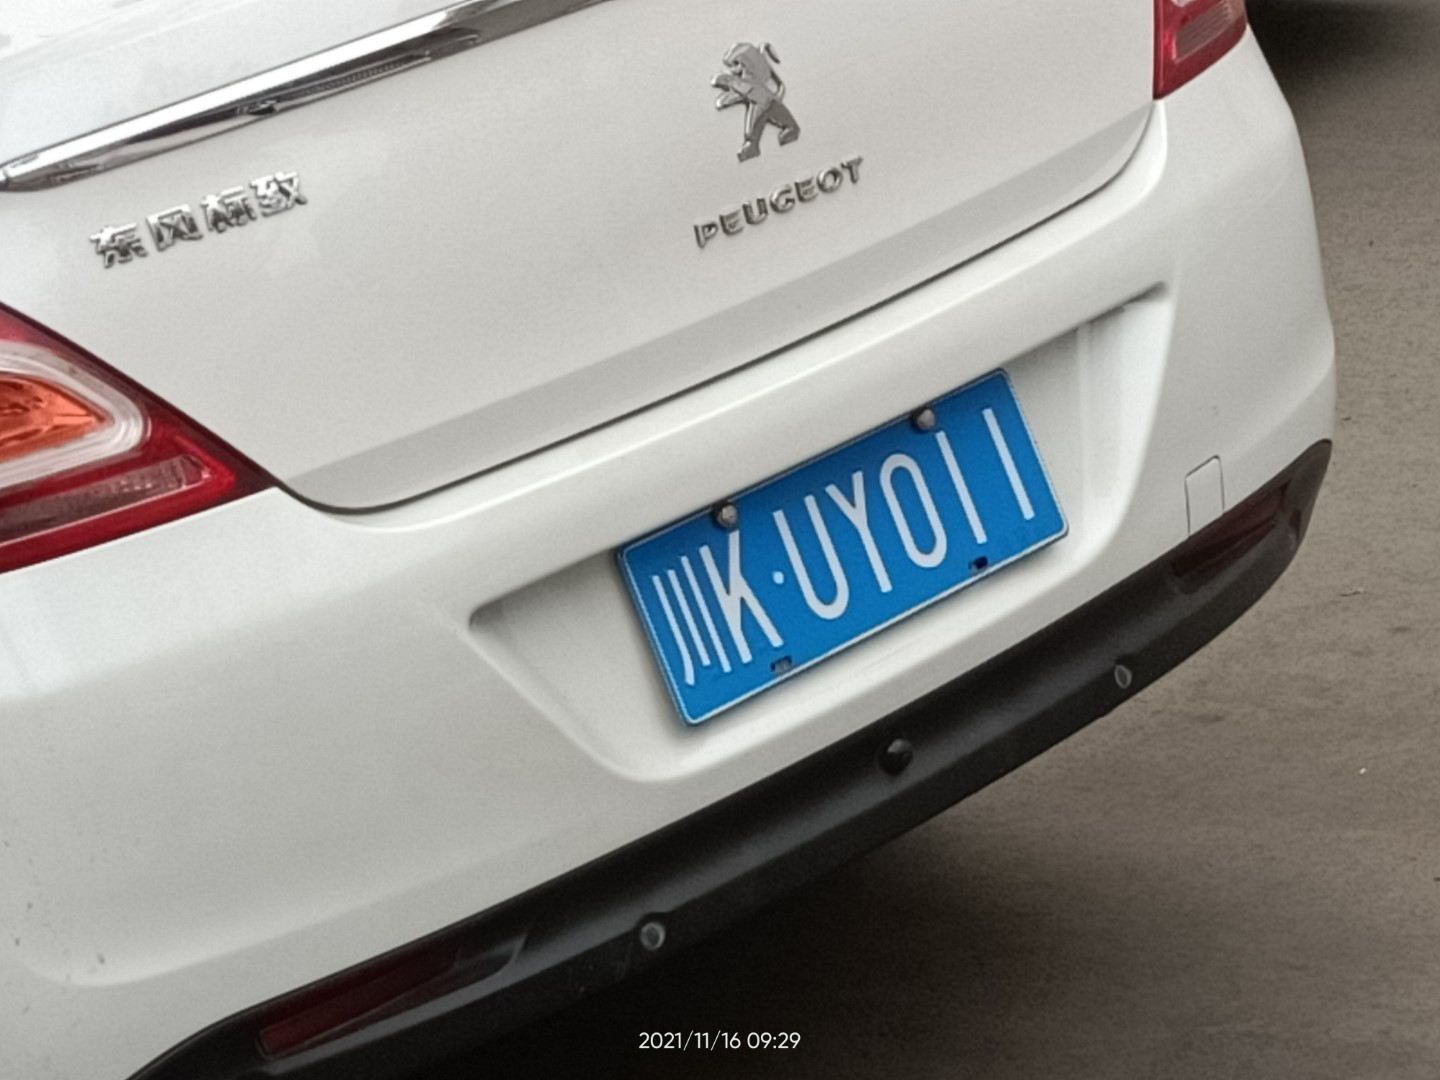plate: (625, 368, 1070, 718)
